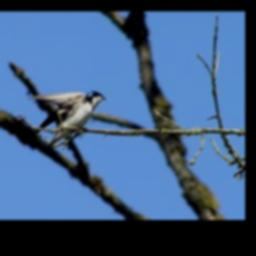Swallow: (26, 89, 107, 151)
